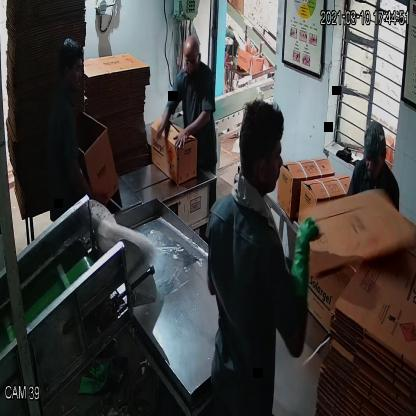no_glove: (174, 103, 209, 157), (153, 97, 178, 150)
